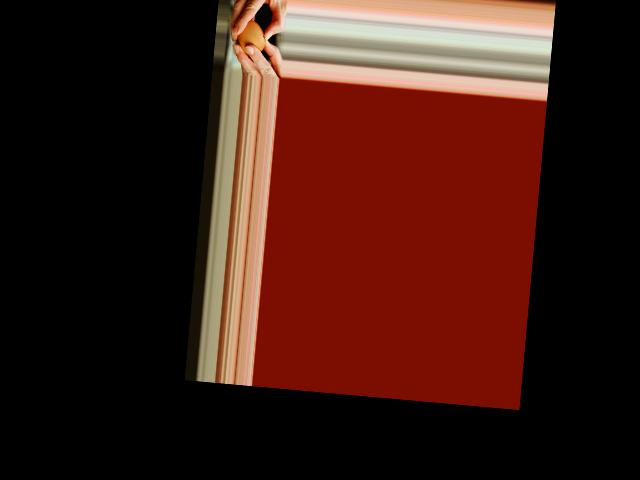egg: (235, 19, 266, 56)
